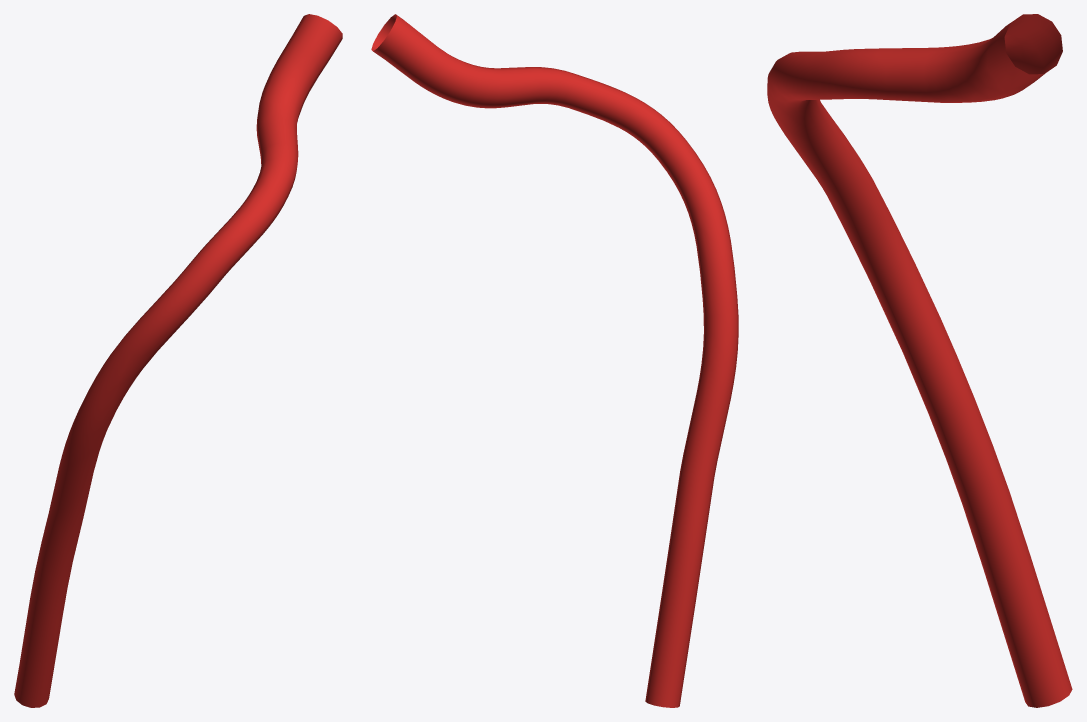
Rendered from circulatorio-anterior-spinal-artery-l.glb.
The picture shows the model from 3 angles, left to right: view 1: azimuth 30°, elevation 25°; view 2: azimuth 150°, elevation 25°; view 3: azimuth 270°, elevation 25°; orthographic projection. The views are drawn at different scales.
Visible parts, largest first — view 1: Anterior spinal artery.l; view 2: Anterior spinal artery.l; view 3: Anterior spinal artery.l.
Part boxes in pixels (x1=…): Anterior spinal artery.l: x1=14, y1=14, x2=342, y2=707; Anterior spinal artery.l: x1=371, y1=14, x2=738, y2=707; Anterior spinal artery.l: x1=767, y1=14, x2=1072, y2=707.
Size of the model in its own units: 0.0145 by 0.0274 by 0.00865.
